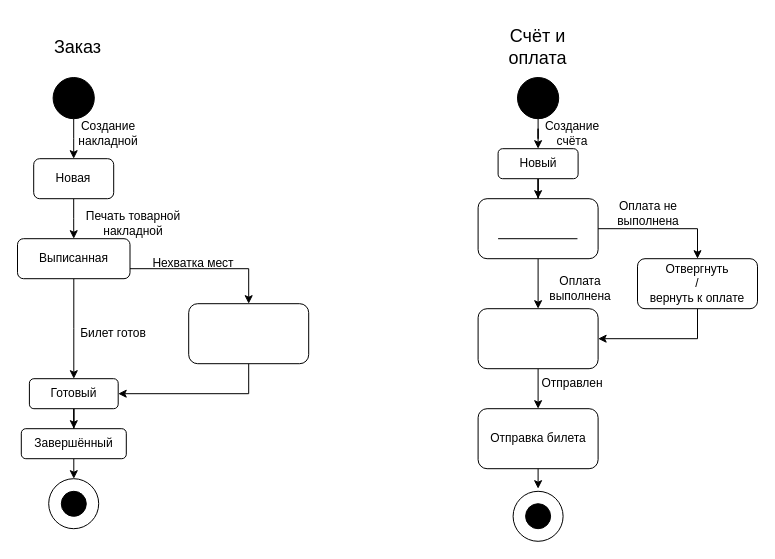
Image size: 775x559. Some labels were removed from this diagram. Here are the shapes that lost their labels. From the top down, the centre of each, then its label:
At point (537, 228): "Подтверждение оплаты Проверить оплату".
At point (248, 333): "Приостоновление".
At point (537, 338): "Оплата подтверждена".
